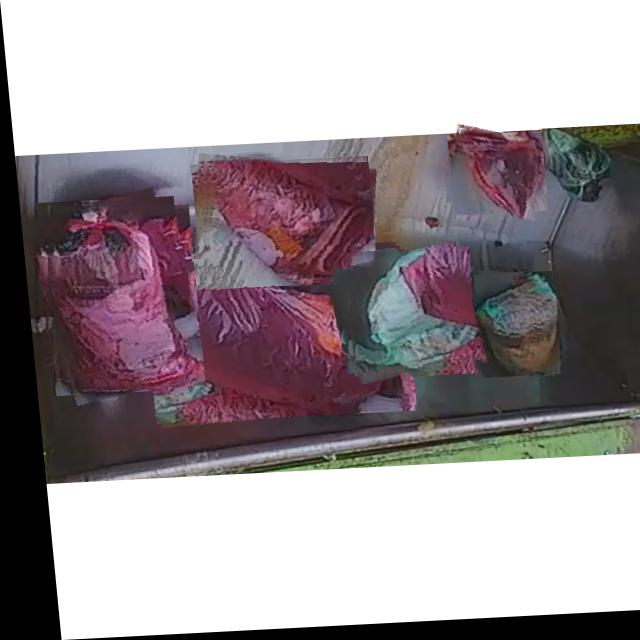general_trashbag: (347, 253, 471, 374), (473, 283, 551, 380)
other_trashbag: (140, 260, 391, 414), (40, 206, 196, 392), (201, 160, 368, 289), (456, 132, 541, 224)
